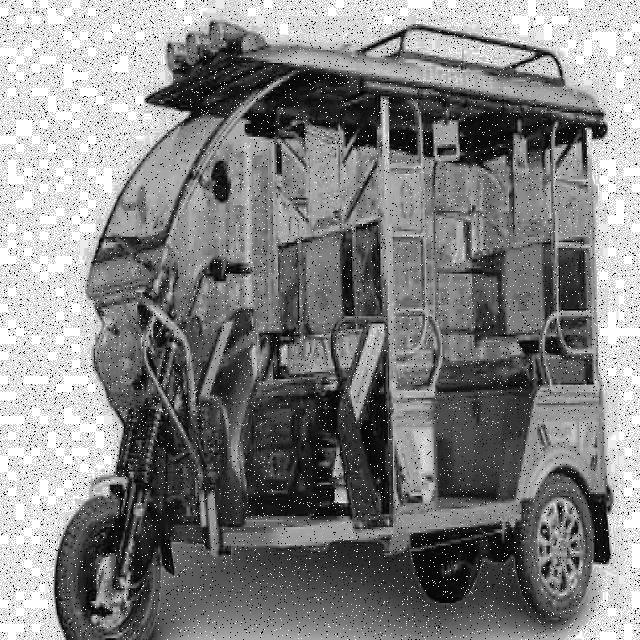Toto: (47, 40, 613, 640)
